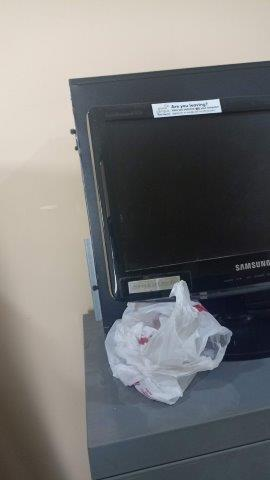plastik: (98, 276, 227, 409)
